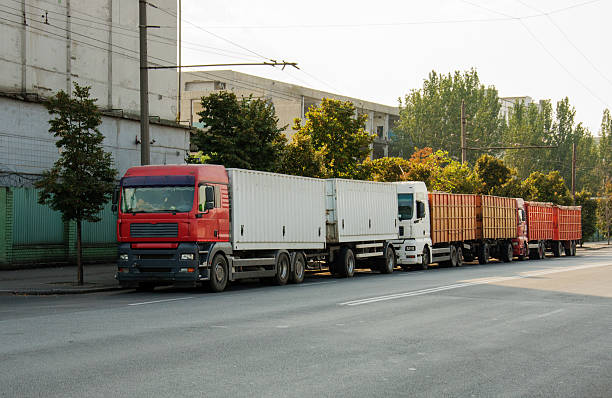Truck: (109, 155, 595, 292)
